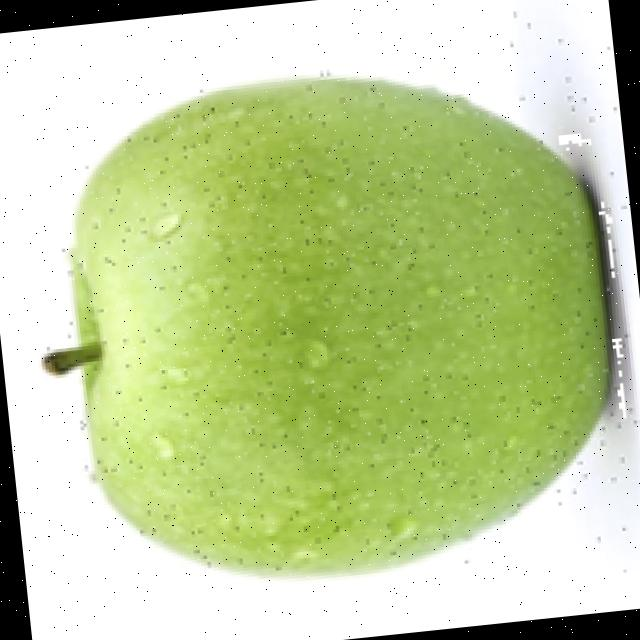apple: (40, 65, 640, 584)
